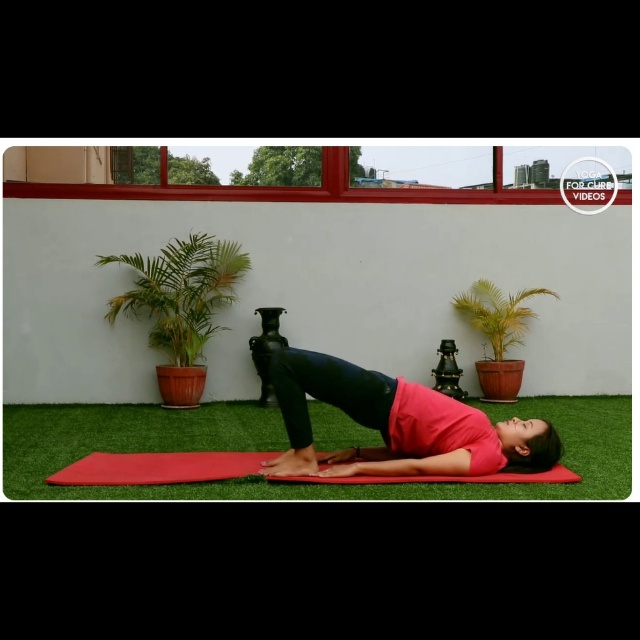Bridge_Pose: (245, 336, 563, 475)
